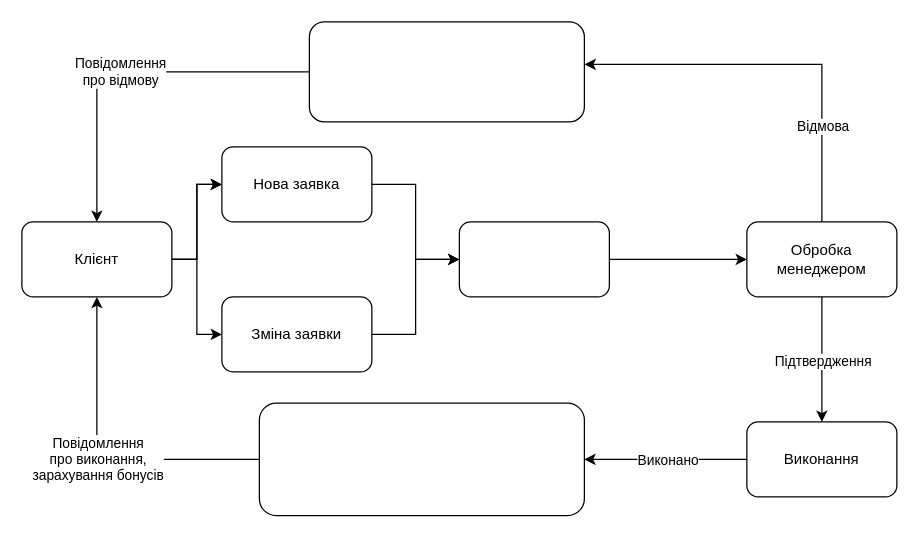
Image size: 919x538. Some labels were removed from this diagram. The centre of each missing label's shape, as x and y in pixels:
Зміна статусу в СRM на відмову: the point at 446,71
Зміна статусу в СRM на підтвердження: the point at 421,459
Операція в СRM: the point at 533,259
